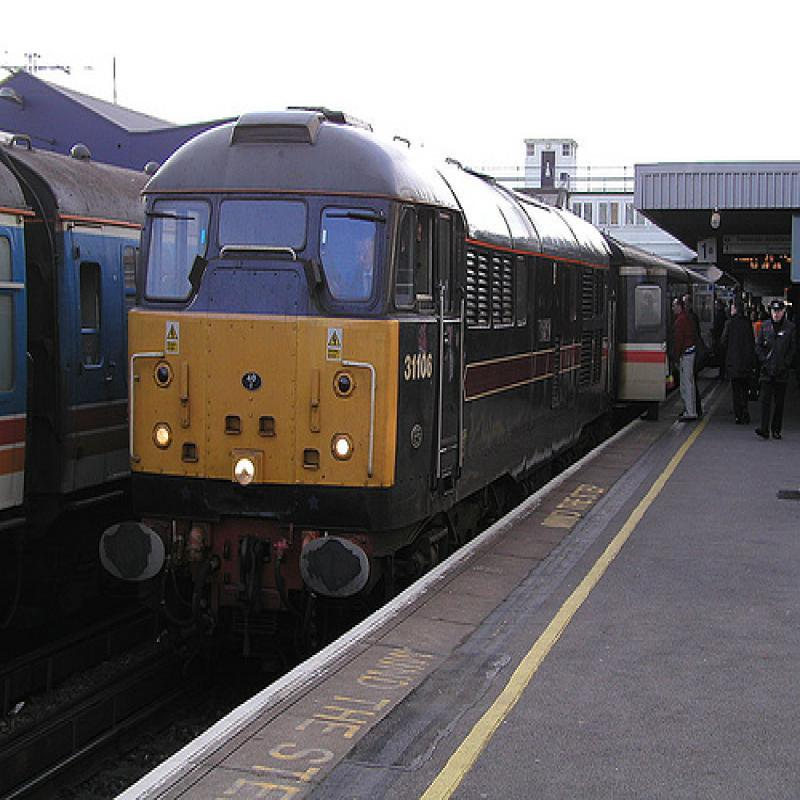train: (99, 112, 704, 600), (3, 131, 161, 560)
